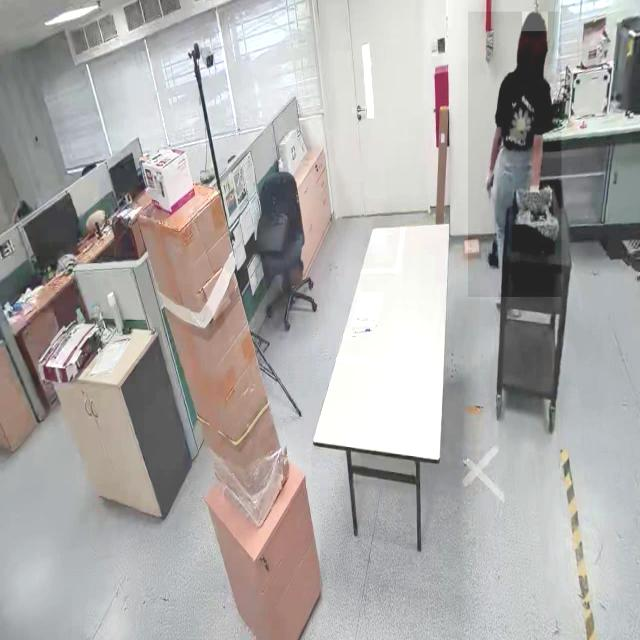head_nohelmet: (522, 12, 548, 32)
person: (468, 11, 562, 298)
